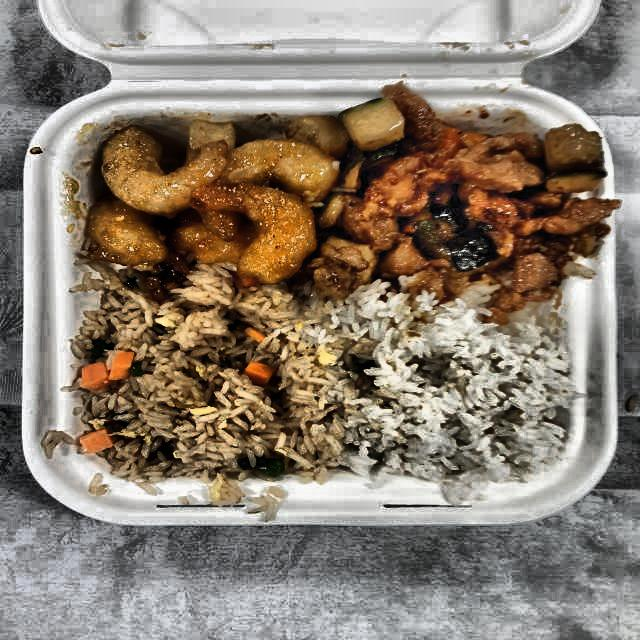Food: (308, 81, 622, 308), (65, 284, 343, 491), (72, 108, 352, 296), (337, 302, 577, 488)
